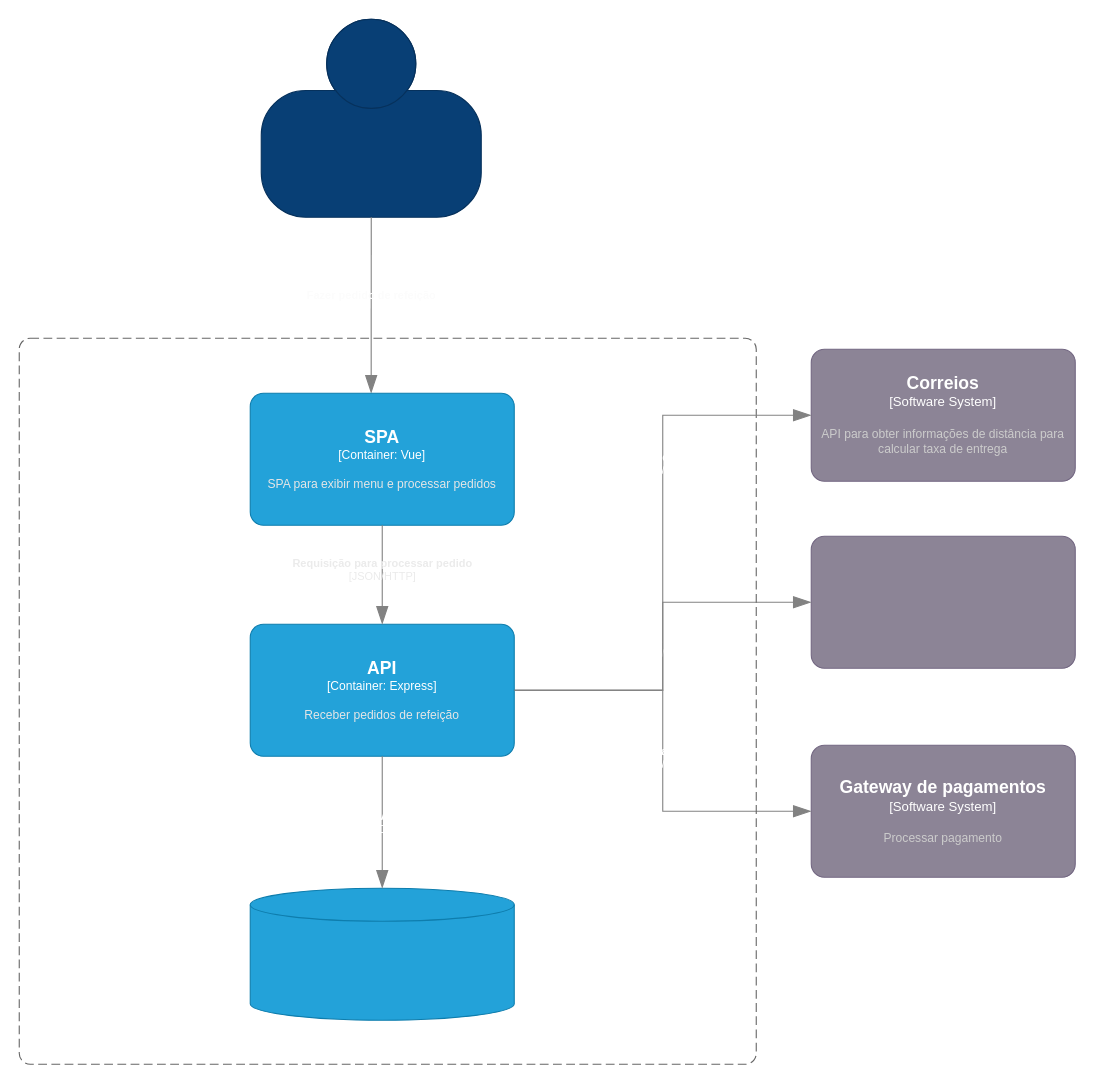
Image size: 1095x1084. Some labels were removed from this diagram. Each missing label, with the centre of its shape:
Cliente [Person] Realizar pedidos de refeição: (x=370, y=117)
Container name [Database: MongoDB] NoSQL: (x=381, y=953)
NFe Provider [Software System] Emissão de nota fiscal: (x=942, y=601)
